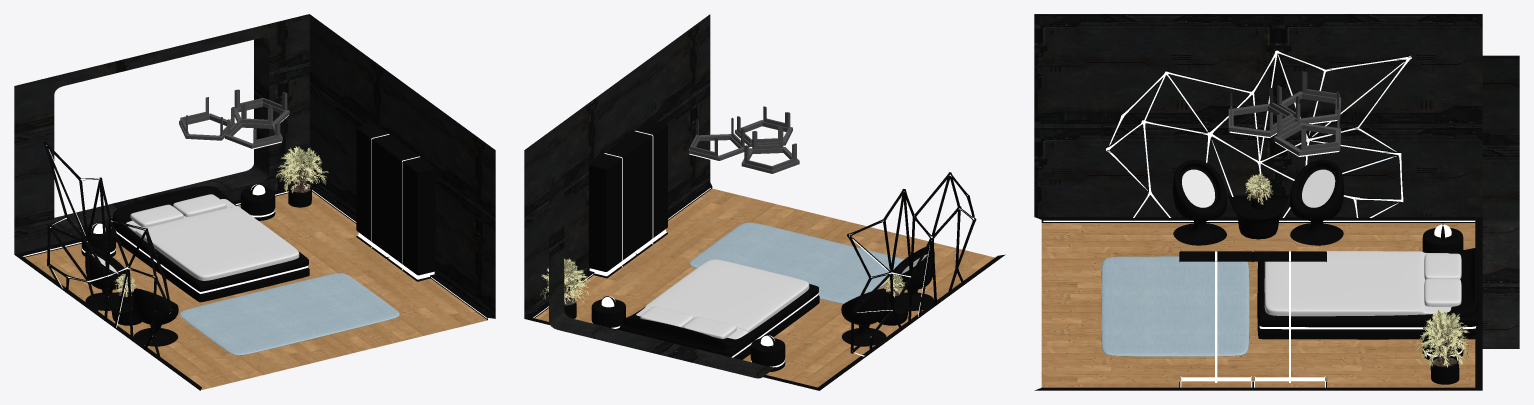
Rendered from ShipQuarter.glb.
3 views of the same model, side by side, from view 1: azimuth 30°, elevation 25°; view 2: azimuth 150°, elevation 25°; view 3: azimuth 270°, elevation 25° (orthographic). The views are drawn at different scales.
Parts seen in each view (by area): view 1: Sci-Fi Bedroom_Structure_0, Bed_SkirtingBoards_0, Sci-Fi Bedroom_Wood_0, Bed_BedSheet_0, Carpet_Carpet_0, Bed_Light_0; view 2: Sci-Fi Bedroom_Structure_0, Bed_SkirtingBoards_0, Sci-Fi Bedroom_Wood_0, Bed_BedSheet_0, Carpet_Carpet_0, Bed_Light_0; view 3: Sci-Fi Bedroom_Structure_0, Sci-Fi Bedroom_Wood_0, Bed_BedSheet_0, Bed_SkirtingBoards_0, Carpet_Carpet_0, Bed_Light_0.
Boxes of the visible parts, bbox=[...] form: Sci-Fi Bedroom_Structure_0: bbox=[14, 14, 495, 318]; Bed_SkirtingBoards_0: bbox=[14, 123, 495, 390]; Sci-Fi Bedroom_Wood_0: bbox=[25, 192, 487, 389]; Bed_BedSheet_0: bbox=[43, 89, 328, 360]; Carpet_Carpet_0: bbox=[179, 273, 399, 355]; Bed_Light_0: bbox=[23, 115, 487, 336]; Sci-Fi Bedroom_Structure_0: bbox=[524, 14, 775, 378]; Bed_SkirtingBoards_0: bbox=[524, 120, 1005, 390]; Sci-Fi Bedroom_Wood_0: bbox=[535, 188, 994, 387]; Bed_BedSheet_0: bbox=[540, 106, 976, 355]; Carpet_Carpet_0: bbox=[689, 222, 903, 303]; Bed_Light_0: bbox=[533, 130, 974, 367]; Sci-Fi Bedroom_Structure_0: bbox=[1034, 14, 1519, 348]; Sci-Fi Bedroom_Wood_0: bbox=[1041, 223, 1475, 387]; Bed_BedSheet_0: bbox=[1106, 49, 1470, 384]; Bed_SkirtingBoards_0: bbox=[1034, 159, 1482, 390]; Carpet_Carpet_0: bbox=[1101, 256, 1249, 356]; Bed_Light_0: bbox=[1043, 50, 1476, 387].
Bounding box in the file's own units: 6.41 × 3.53 × 7.48.
Materials: 9 (8 with a texture image).
